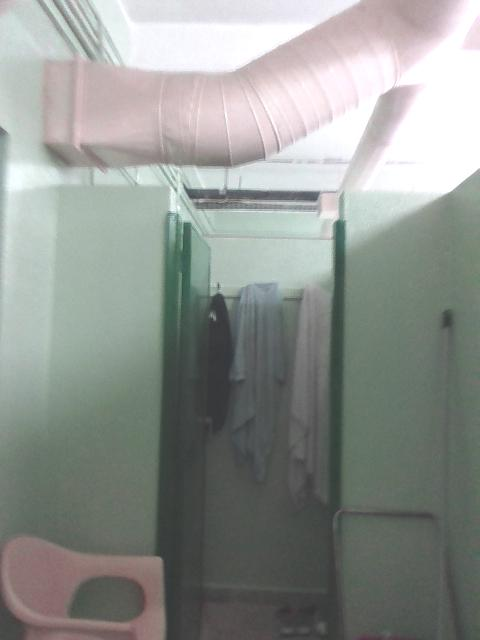open_door: (161, 183, 343, 638)
